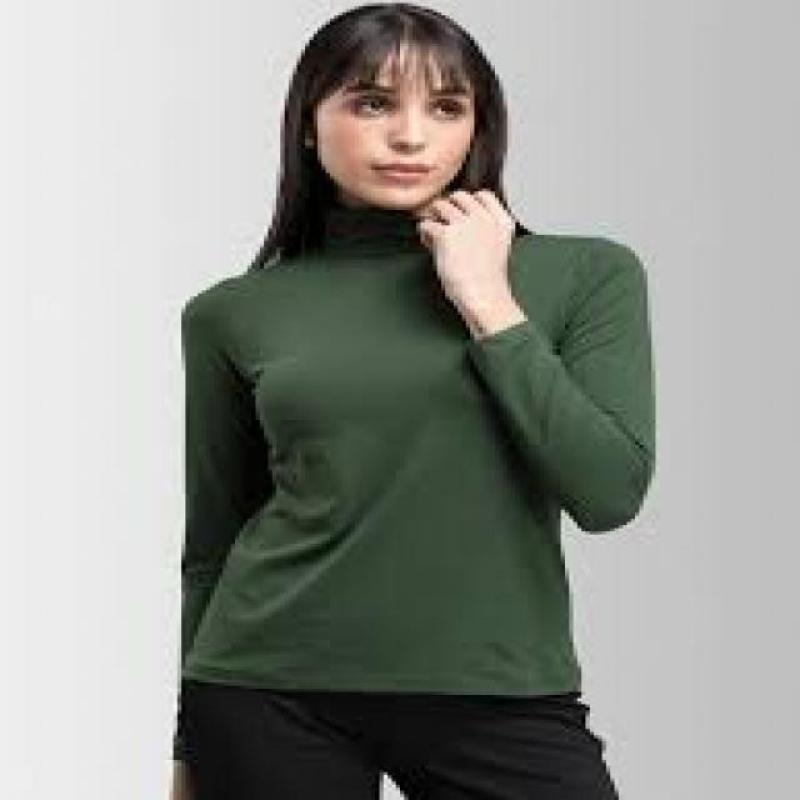long sleeve shirt: (179, 220, 656, 755)
